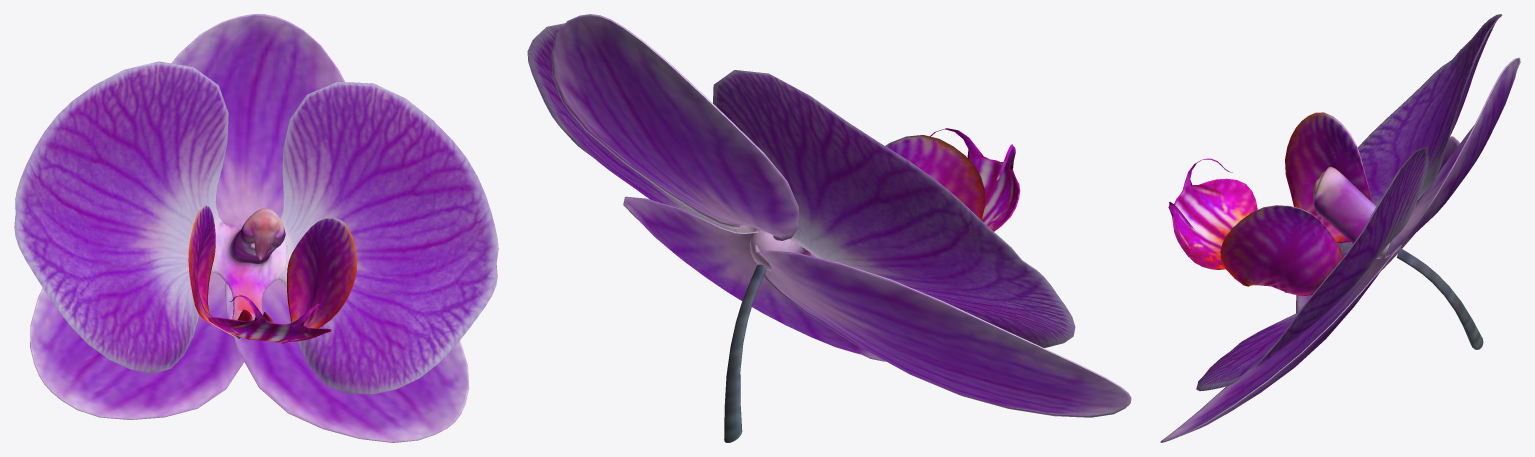
The picture shows the model from 3 angles, left to right: view 1: azimuth 30°, elevation 25°; view 2: azimuth 150°, elevation 25°; view 3: azimuth 270°, elevation 25°; orthographic projection. The views are drawn at different scales.
Visible parts, largest first — view 1: orchidmoth_pink_obj.105; view 2: orchidmoth_pink_obj.105; view 3: orchidmoth_pink_obj.105.
Part boxes in pixels (x1=…): orchidmoth_pink_obj.105: x1=14, y1=14, x2=498, y2=442; orchidmoth_pink_obj.105: x1=527, y1=14, x2=1131, y2=442; orchidmoth_pink_obj.105: x1=1160, y1=14, x2=1520, y2=442.
Bounding box in the file's own units: 0.495 × 0.3567 × 0.3208.
1 material, 1 textured.
